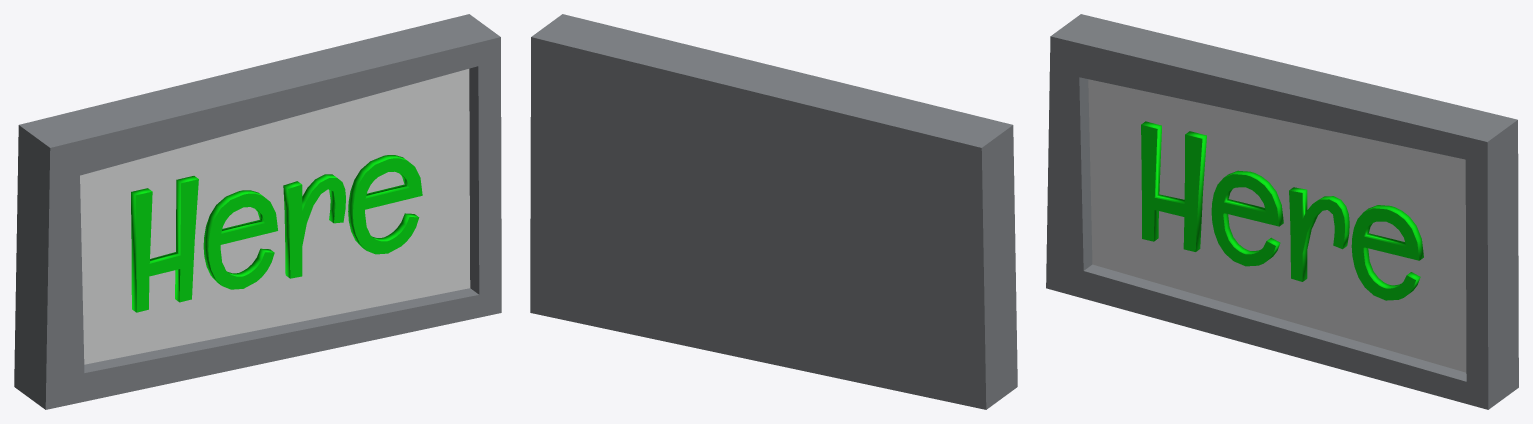
The model's file is SM_EnterSign.fbx.
The picture shows the model from 3 angles, left to right: view 1: azimuth 30°, elevation 25°; view 2: azimuth 150°, elevation 25°; view 3: azimuth 330°, elevation 25°; orthographic projection. The views are drawn at different scales.
Parts seen in each view (by area): view 1: SM_EnterSign; view 2: SM_EnterSign; view 3: SM_EnterSign.
Part boxes in pixels (<box>): SM_EnterSign: <box>14,14,501,409</box>; SM_EnterSign: <box>530,14,1017,409</box>; SM_EnterSign: <box>1046,14,1518,409</box>.
Size of the model in its own units: 3.98 by 0.4758 by 2.3.
